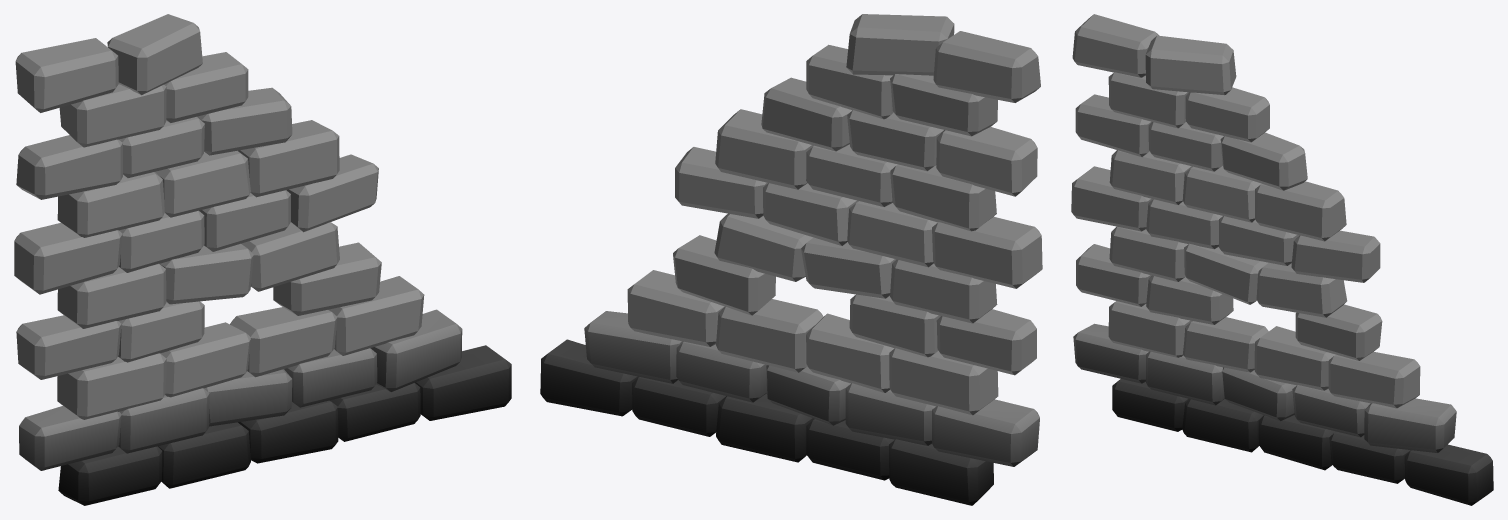
The model's file is BrickWall2x2_01_End_Broken_R.fbx.
3 renders of one model, left to right at view 1: azimuth 30°, elevation 25°; view 2: azimuth 150°, elevation 25°; view 3: azimuth 330°, elevation 25°, orthographic. The views are drawn at different scales.
Parts seen in each view (by area): view 1: BrickWall2x2_01_End_Broken_R; view 2: BrickWall2x2_01_End_Broken_R; view 3: BrickWall2x2_01_End_Broken_R.
Boxes of the visible parts, bbox=[...] form: BrickWall2x2_01_End_Broken_R: bbox=[14, 14, 511, 505]; BrickWall2x2_01_End_Broken_R: bbox=[540, 14, 1042, 505]; BrickWall2x2_01_End_Broken_R: bbox=[1071, 14, 1493, 505].
Bounding box in the file's own units: 222 × 201 × 31.88.
